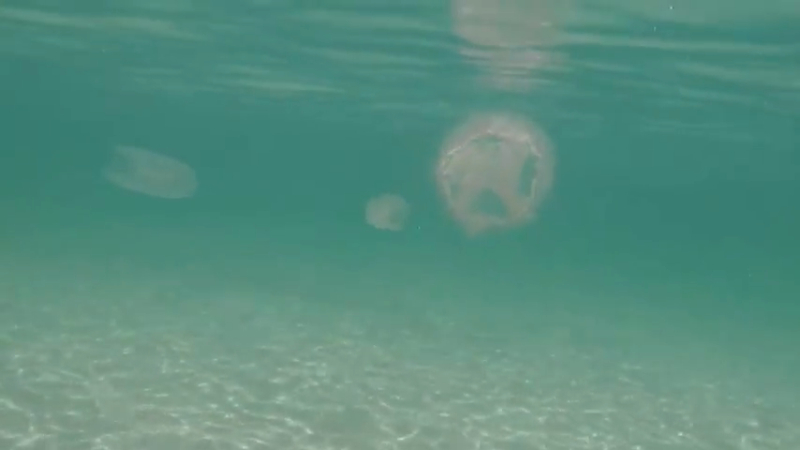white jellyfish: (435, 106, 566, 242), (97, 139, 196, 207), (358, 183, 413, 235)
